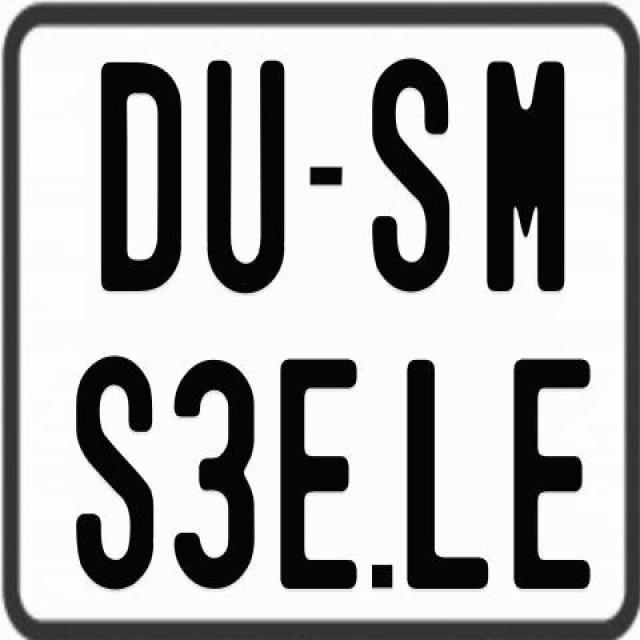3: (174, 361, 254, 594)
D: (100, 58, 188, 286)
E: (277, 354, 363, 590), (512, 355, 596, 592)
L: (406, 358, 490, 592)
M: (486, 60, 566, 298)
S: (72, 356, 152, 594), (369, 58, 447, 298)
U: (207, 59, 286, 293)
